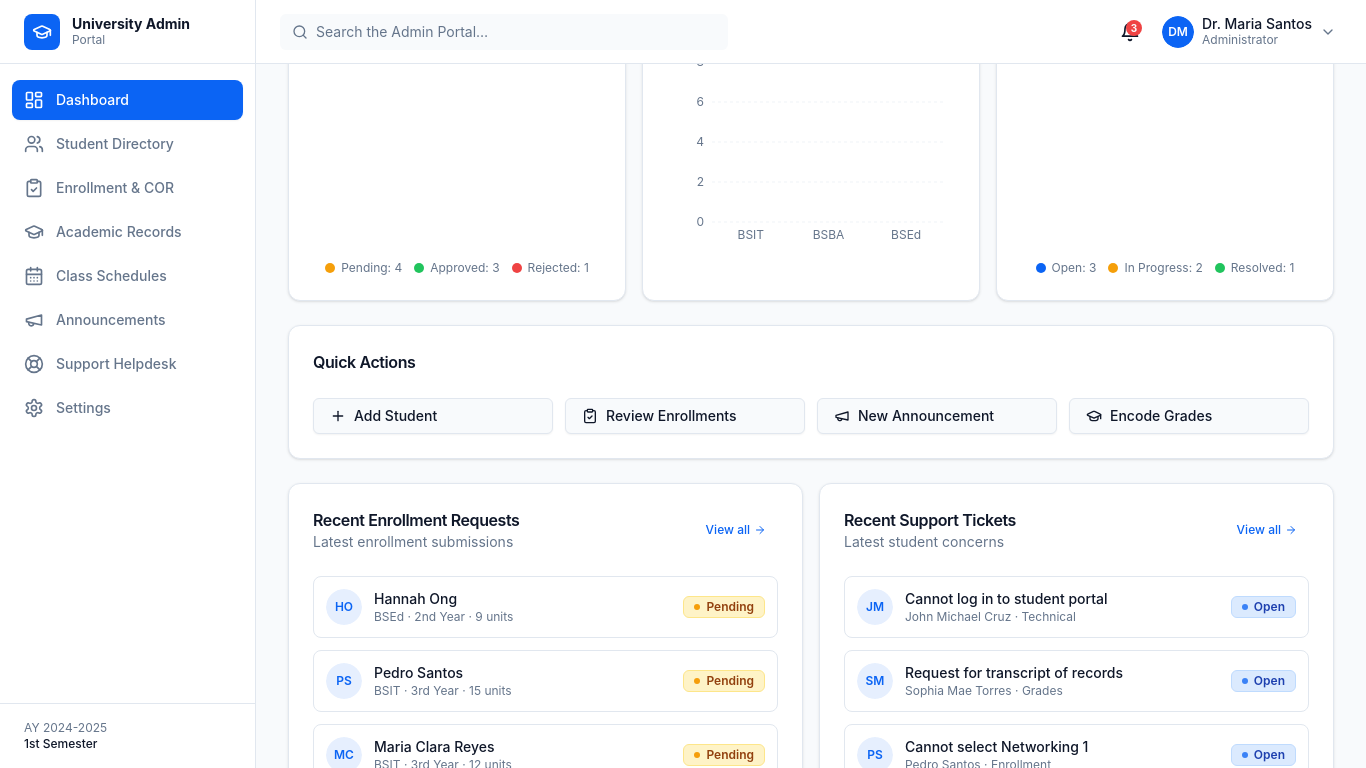
Test: Admin routes and workflows › shows inline validation messages in the student form
The image size is (1366, 768).
(page scrolled)
Click the button "Add Student" at (433, 416), box [313,398,553,434]
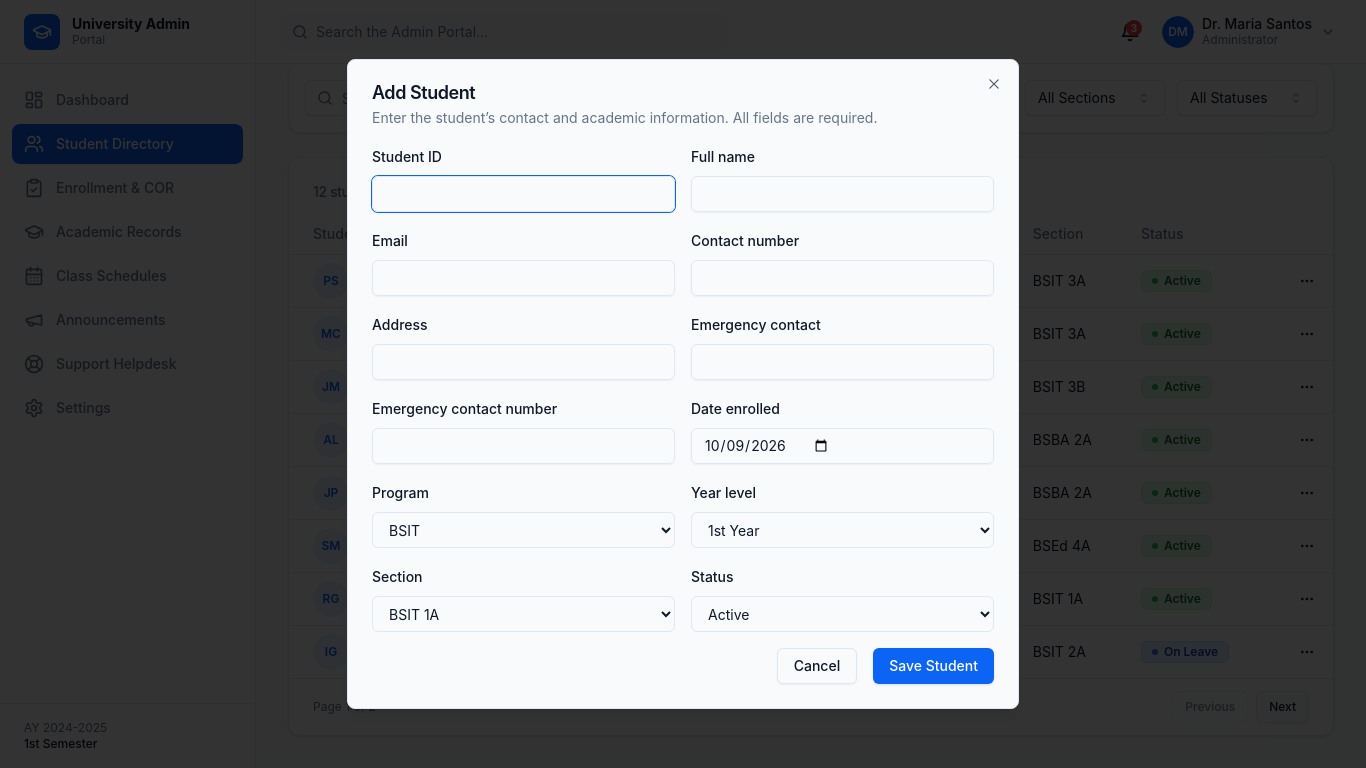
Click the button "Save Student" at (934, 666), box [873,648,994,684]
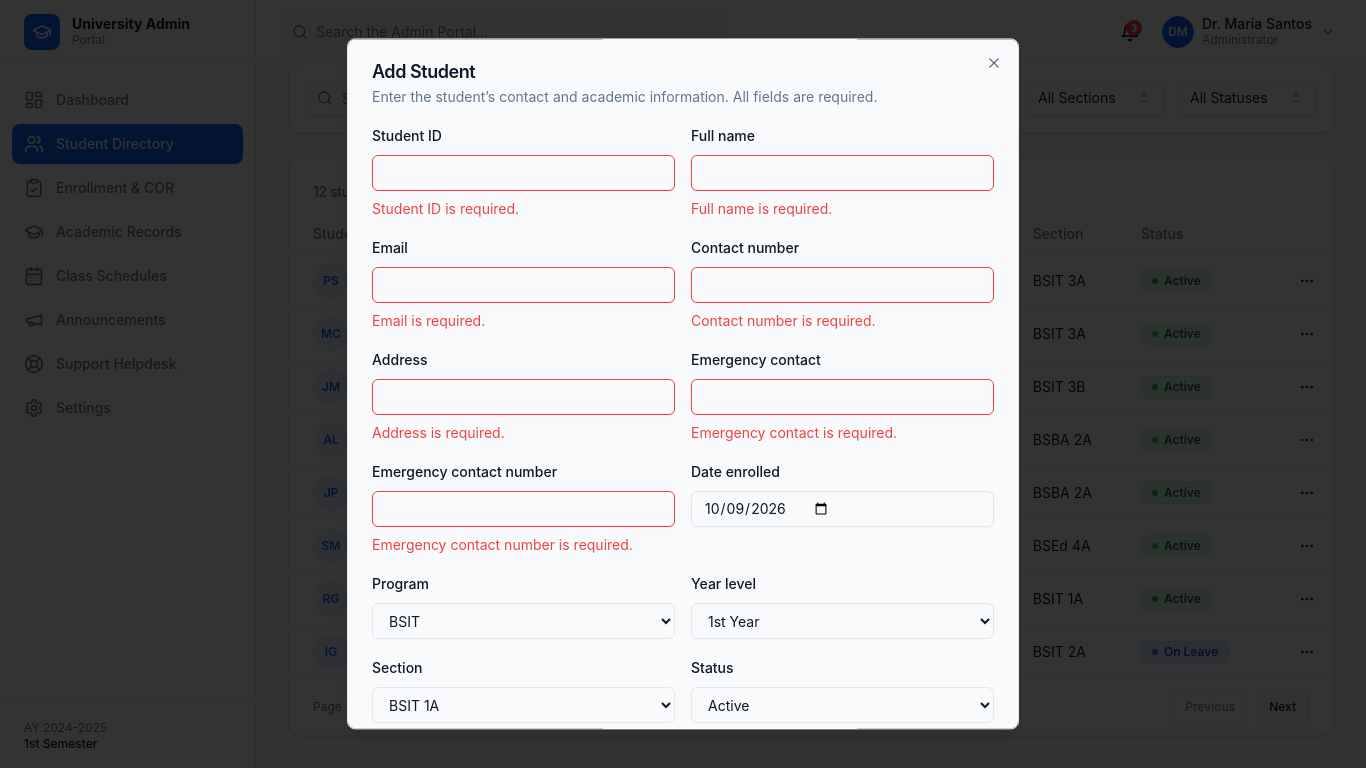
Expected: the text "Student ID is required." is shown, [372,200,519,217]
Expected: the text "Email is required." is shown, [372,312,485,329]
Type "not-an-email" into the field labelled "Email" at (524, 285), box [372,267,675,303]
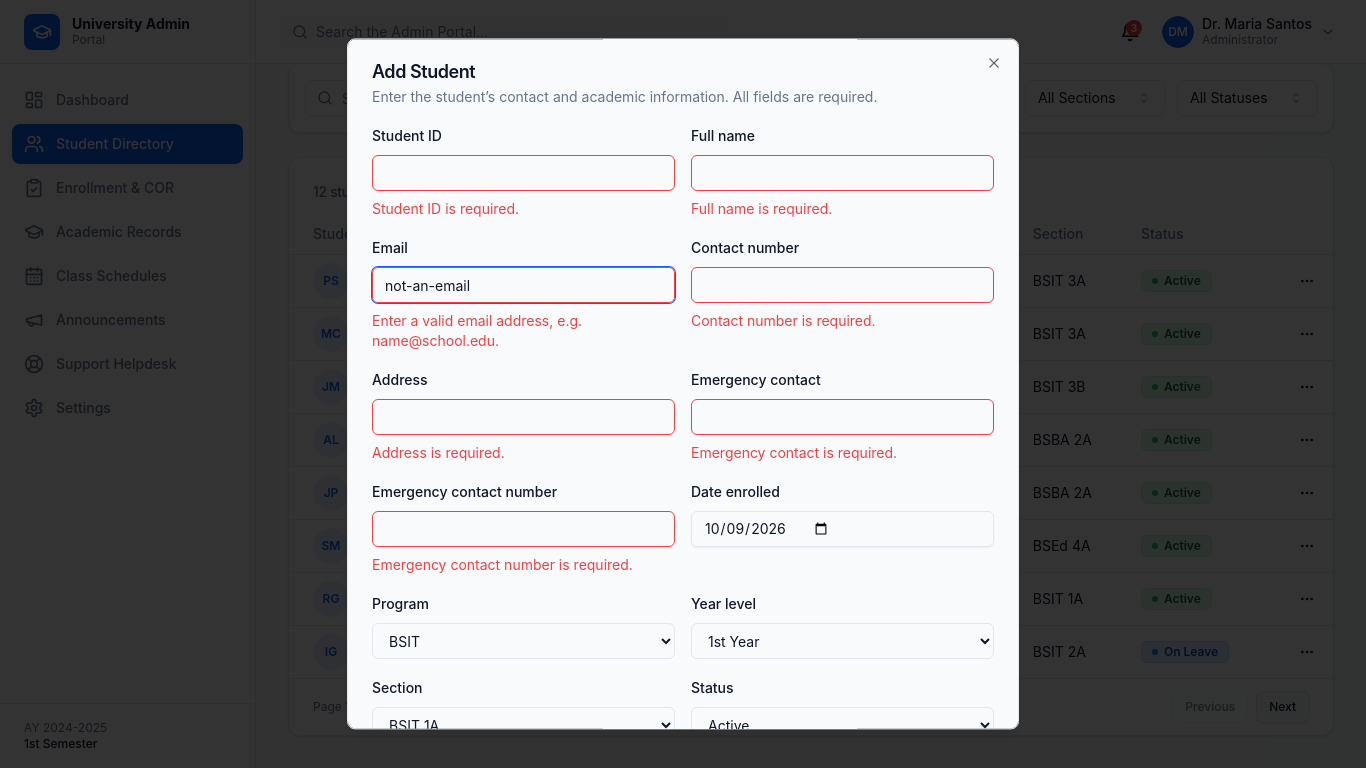
Expected: the text "Enter a valid email address, e.g. name@school.edu." is shown, [372,312,582,349]
